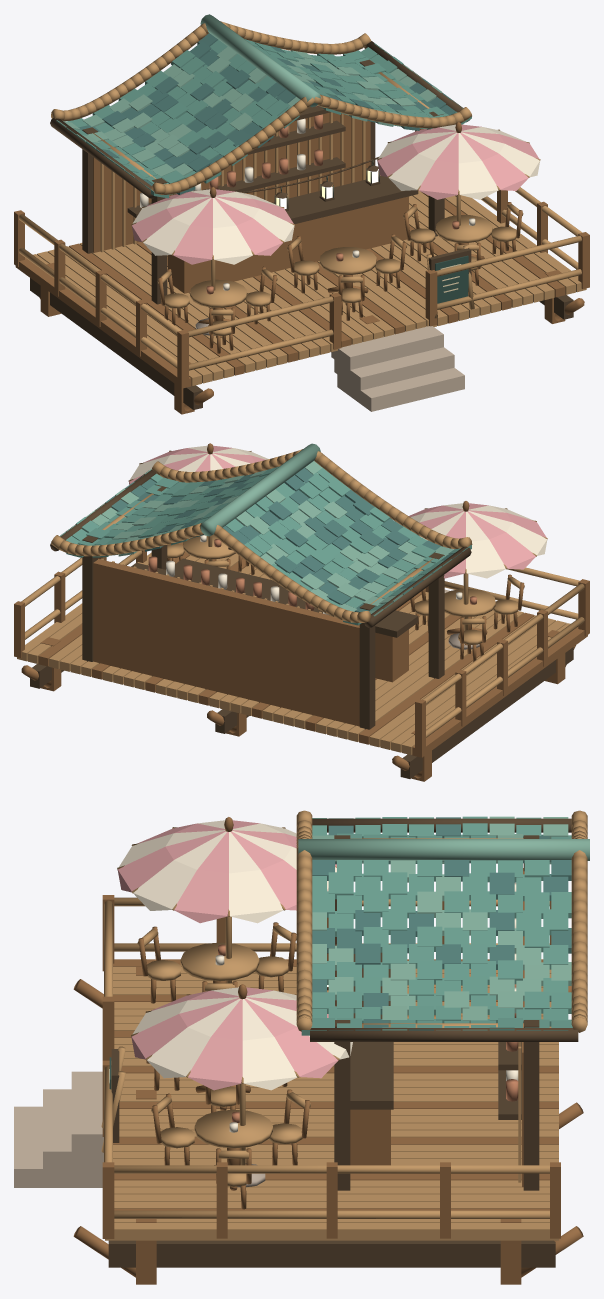
File: cafe_pavilion.glb
The picture shows the model from 3 angles, top to bottom: view 1: azimuth 30°, elevation 25°; view 2: azimuth 150°, elevation 25°; view 3: azimuth 270°, elevation 25°; orthographic projection. The views are drawn at different scales.
Parts seen in each view (by area): view 1: cafe_pavilion; view 2: cafe_pavilion; view 3: cafe_pavilion.
Boxes of the visible parts, bbox=[...] form: cafe_pavilion: bbox=[14, 14, 589, 414]; cafe_pavilion: bbox=[14, 443, 589, 781]; cafe_pavilion: bbox=[14, 810, 589, 1284].
Size of the model in its own units: 9.37 by 5.1 by 8.38.
